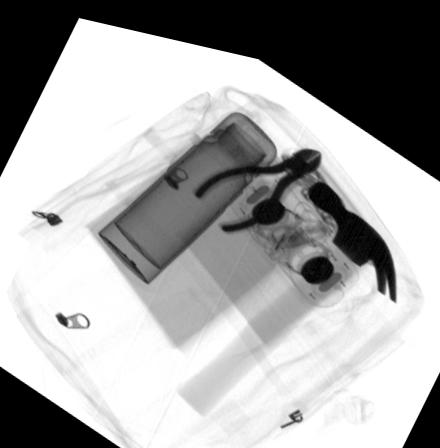Hammer: (176, 165, 394, 408)
Pliers: (191, 133, 320, 222)
